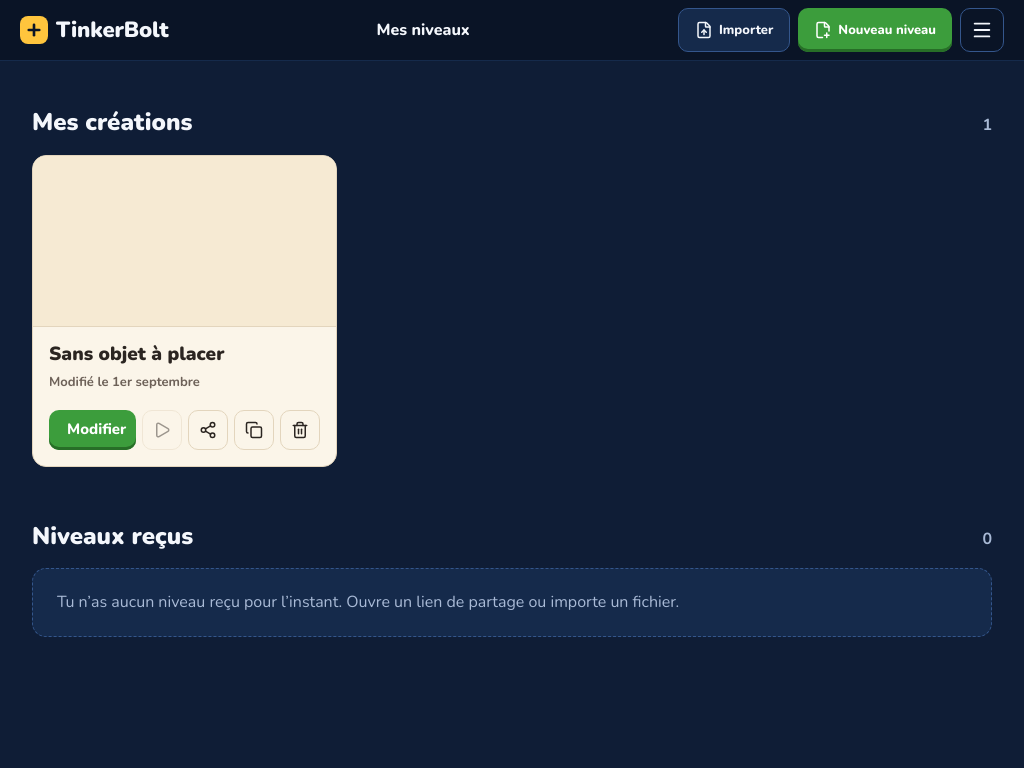
Test case: page « Mes niveaux » (M9, ADR 0015 § Page « Mes niveaux ») › ouvre la boîte d’export vérifiée pour partager une création
Click the button named "Partager" at (208,430), box x1=188 y1=410 x2=228 y2=450
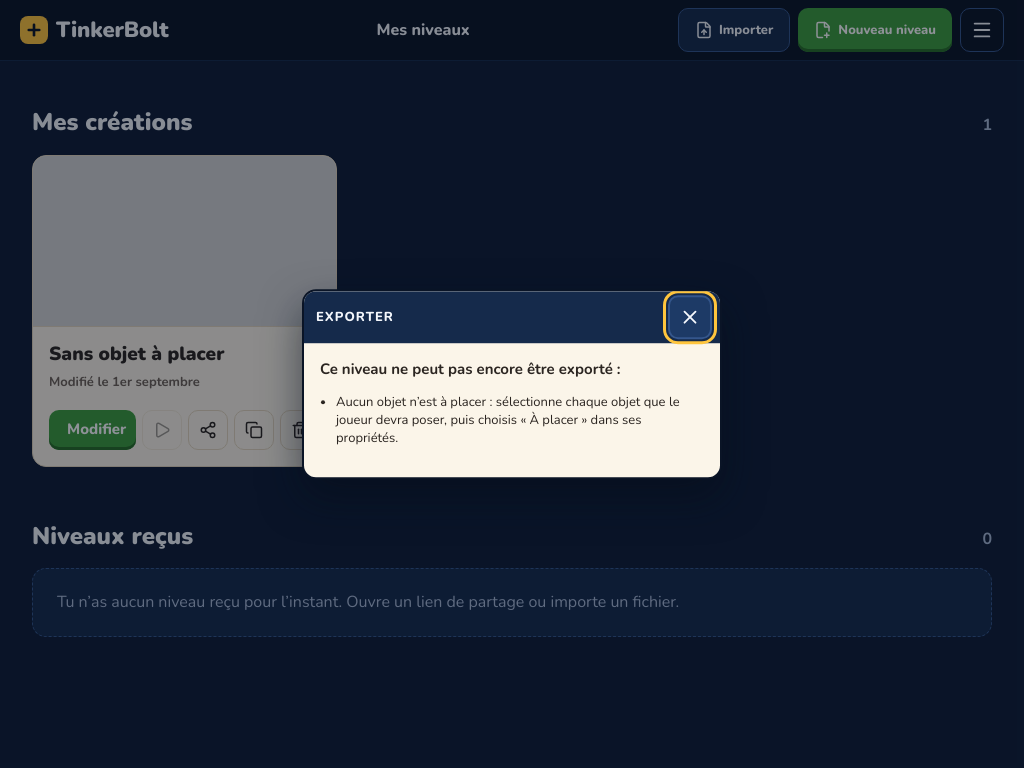
Now the message shows "Aucun objet n’est à placer", box x1=336 y1=393 x2=680 y2=448
